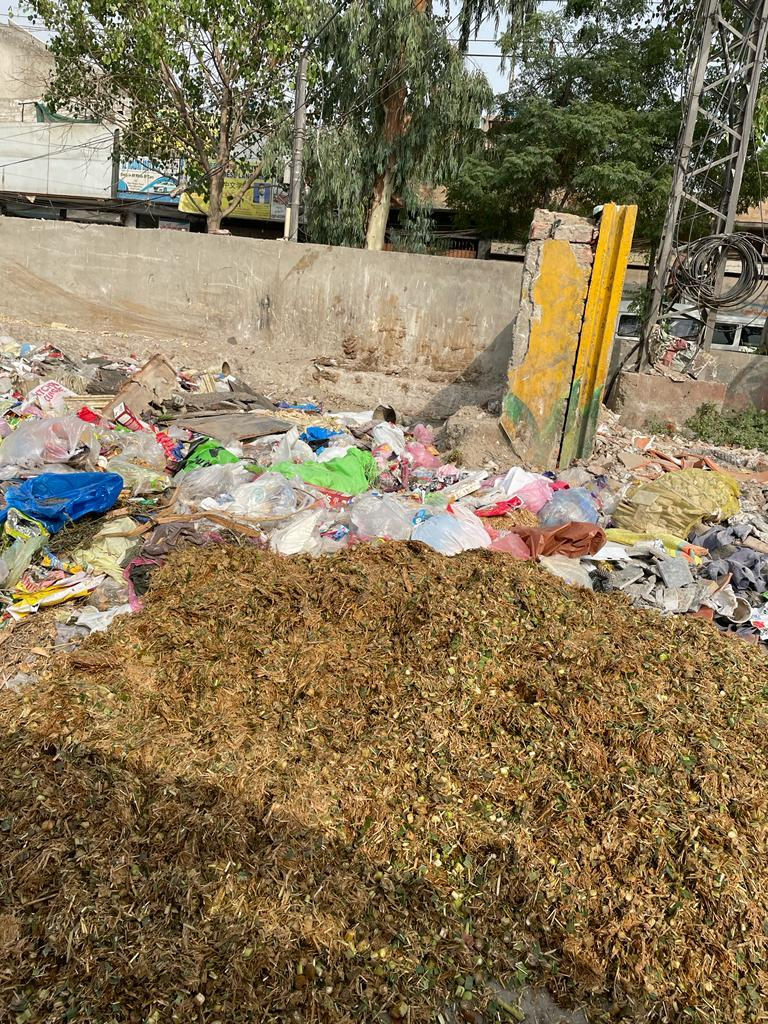garbage: (0, 336, 768, 676)
